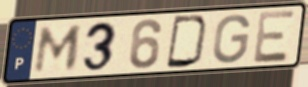3: (80, 19, 124, 75)
6: (128, 17, 164, 71)
D: (164, 14, 212, 70)
E: (252, 8, 298, 66)
G: (210, 12, 252, 66)
M: (32, 23, 86, 75)
